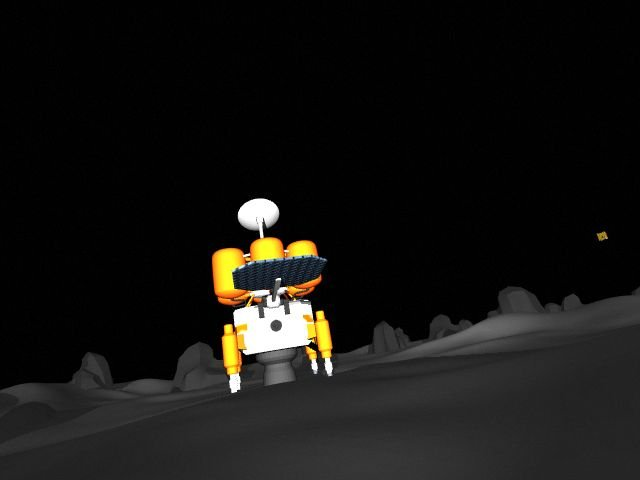homebase: (210, 198, 335, 396)
